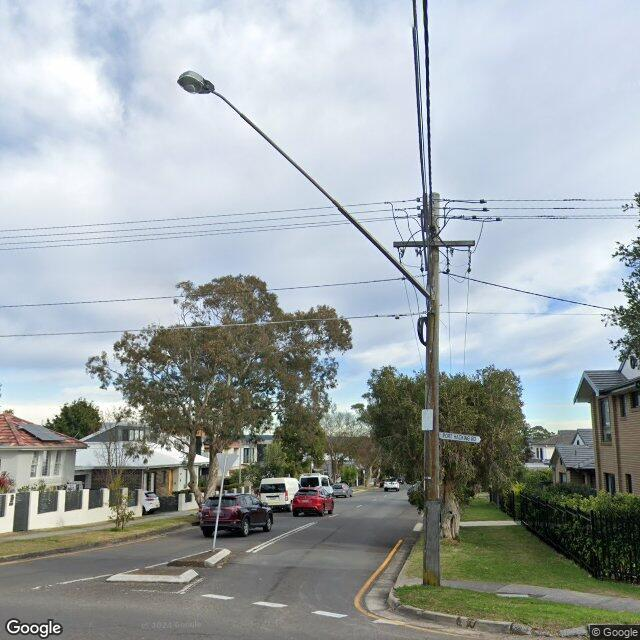crossarm: (392, 240, 476, 250), (421, 192, 430, 234)
streetlight: (177, 71, 434, 304)
timber-pole: (421, 191, 442, 587)
